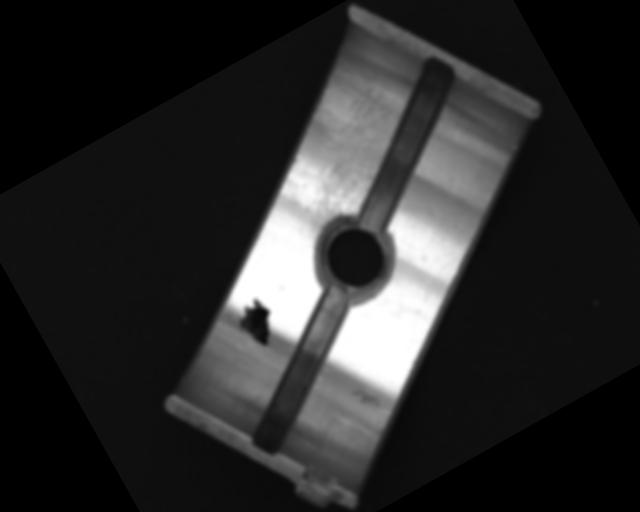blot: (230, 294, 286, 354)
bruise: (347, 378, 383, 416)
gap: (307, 53, 505, 239), (206, 285, 395, 462)
hole: (297, 200, 412, 315)
scratch: (246, 45, 442, 242)
